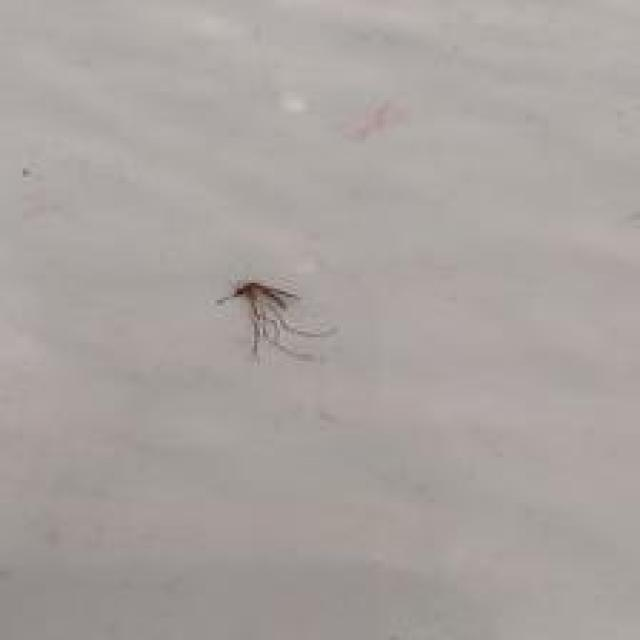Culex: (214, 277, 337, 363)
